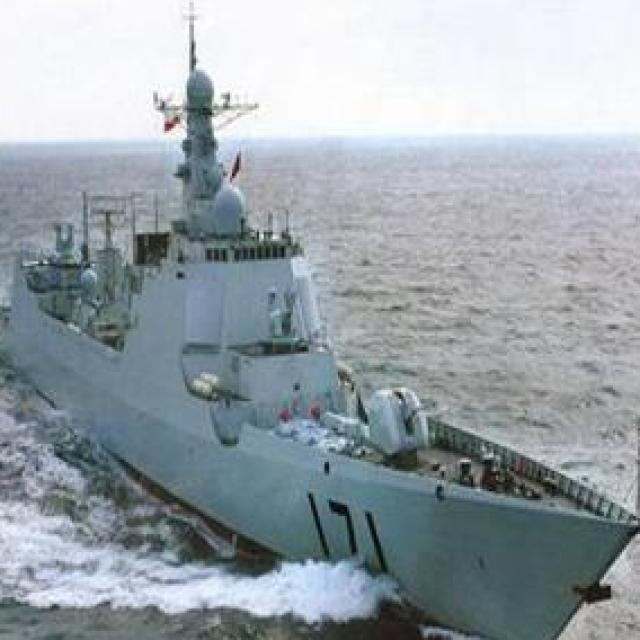navalvessels: (0, 47, 633, 640)
